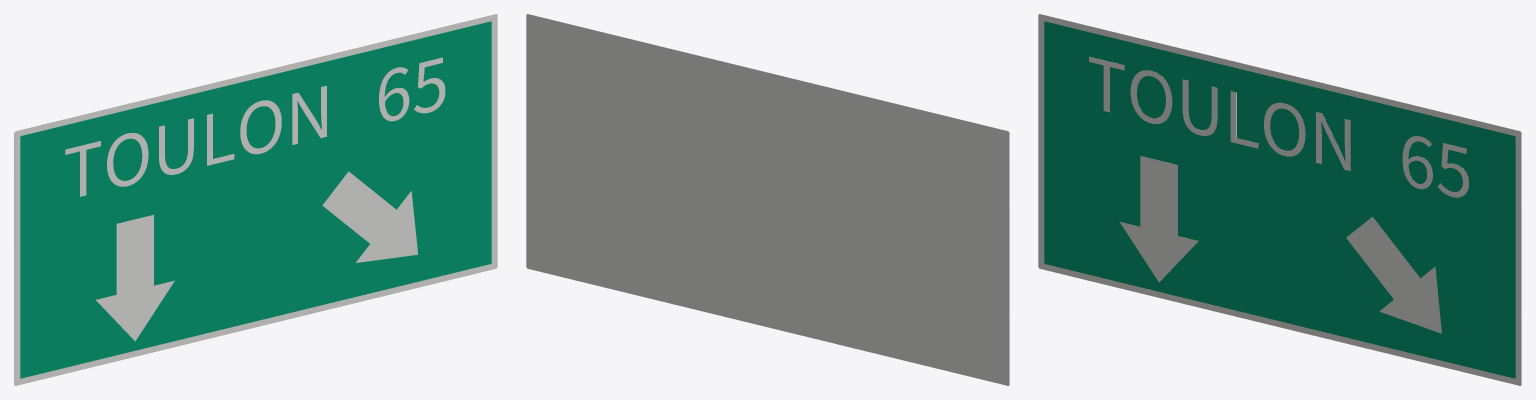
3 views of the same model, side by side, from view 1: azimuth 30°, elevation 25°; view 2: azimuth 150°, elevation 25°; view 3: azimuth 330°, elevation 25° (orthographic).
Visible parts, largest first — view 1: Da31b_reg01, Da31b_lis00, Da31b_voie02, Da31b_voie03, Da31b_txt04, Da31b_txt05; view 2: Da31b_lis00; view 3: Da31b_reg01, Da31b_lis00, Da31b_voie03, Da31b_voie02, Da31b_txt04, Da31b_txt05.
Boxes of the visible parts, x1=… form: Da31b_reg01: x1=20, y1=21, x2=491, y2=378; Da31b_lis00: x1=14, y1=14, x2=497, y2=385; Da31b_voie02: x1=96, y1=215, x2=174, y2=341; Da31b_voie03: x1=322, y1=171, x2=417, y2=262; Da31b_txt04: x1=65, y1=86, x2=326, y2=196; Da31b_txt05: x1=379, y1=57, x2=445, y2=121; Da31b_lis00: x1=526, y1=14, x2=1009, y2=385; Da31b_reg01: x1=1044, y1=21, x2=1515, y2=378; Da31b_lis00: x1=1038, y1=14, x2=1521, y2=385; Da31b_voie03: x1=1346, y1=217, x2=1441, y2=333; Da31b_voie02: x1=1120, y1=156, x2=1198, y2=282; Da31b_txt04: x1=1089, y1=56, x2=1350, y2=170; Da31b_txt05: x1=1402, y1=136, x2=1468, y2=197.
Size of the model in its own units: 3.17 by 1.6 by 0.0024.
